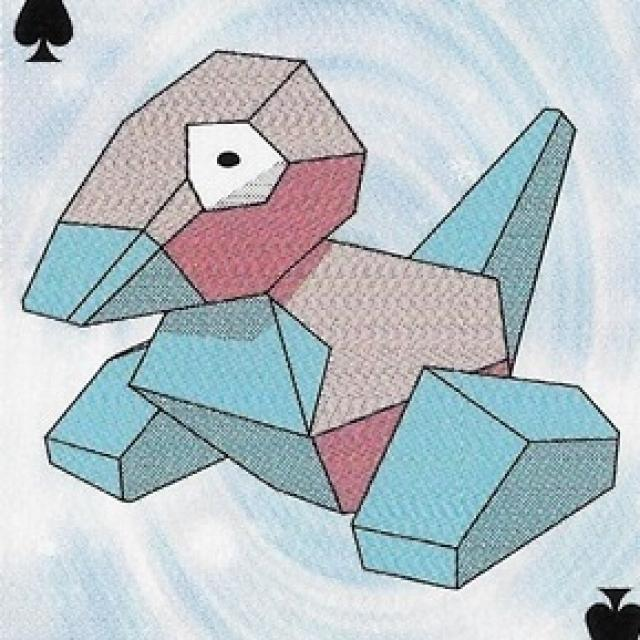Porygon: (45, 56, 543, 509)
